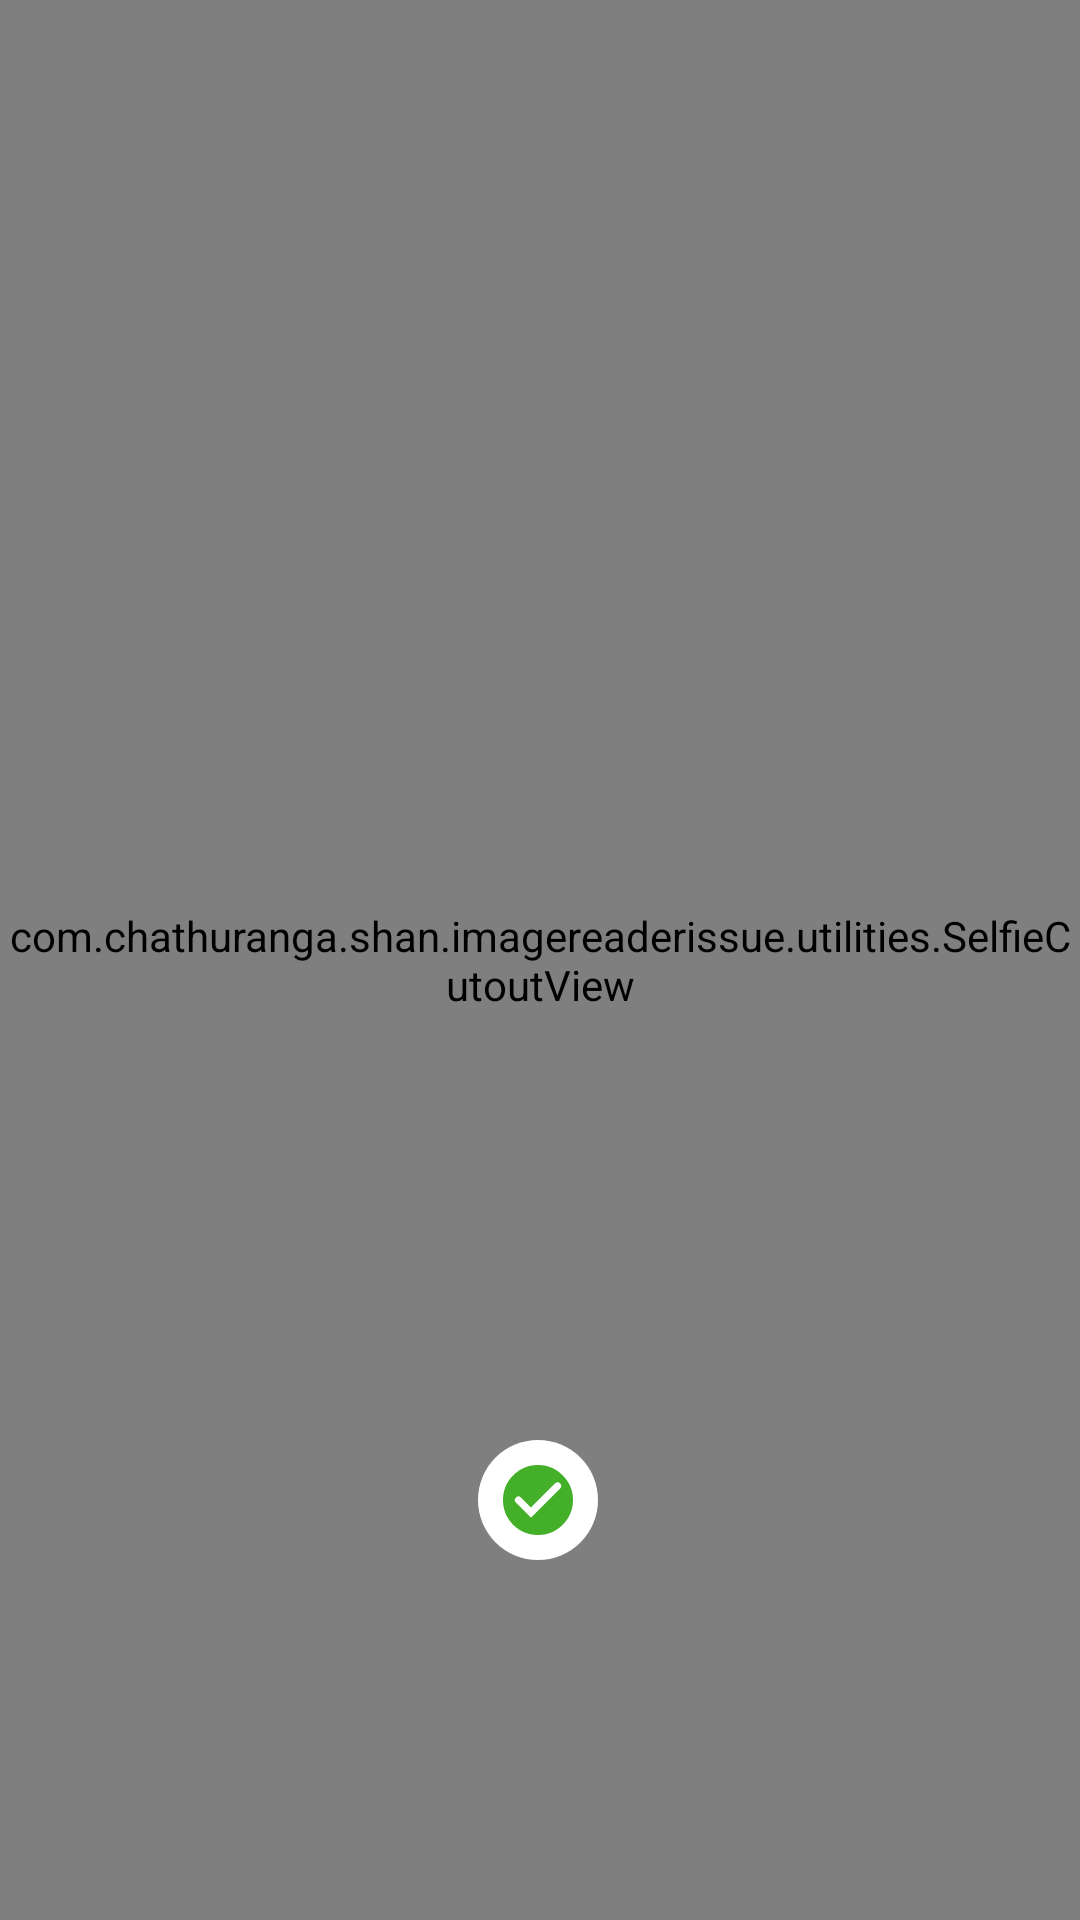

Icon bounding boxes for this 1080px x 1920px phone screenshot, format (x1, y1, x2, y2):
valid fab: (478, 1440, 598, 1560)
